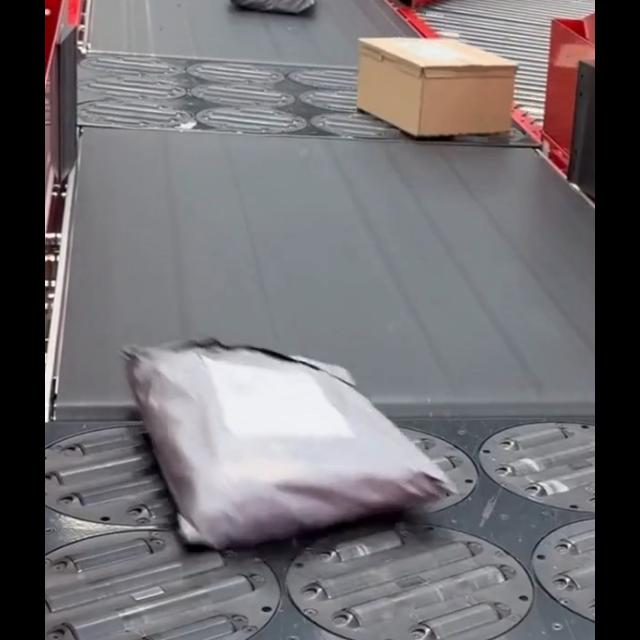box: (358, 36, 514, 142)
mailer: (126, 338, 442, 552)
